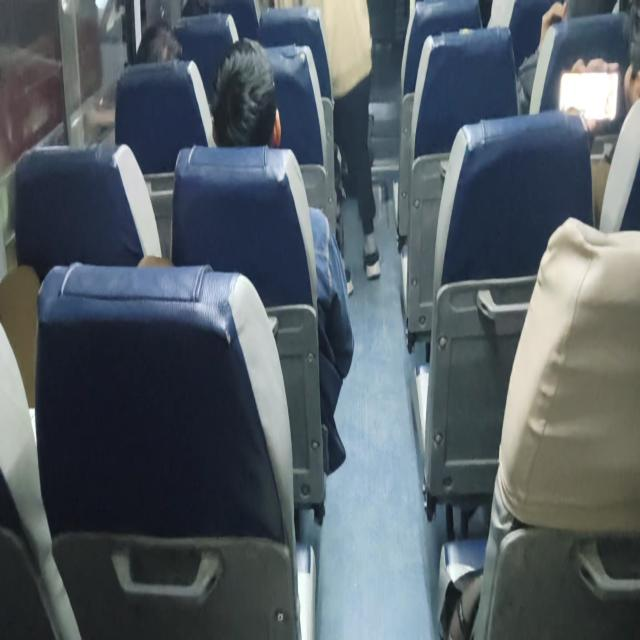person: (210, 37, 354, 474), (319, 0, 381, 281), (210, 36, 282, 148), (135, 20, 183, 64)
